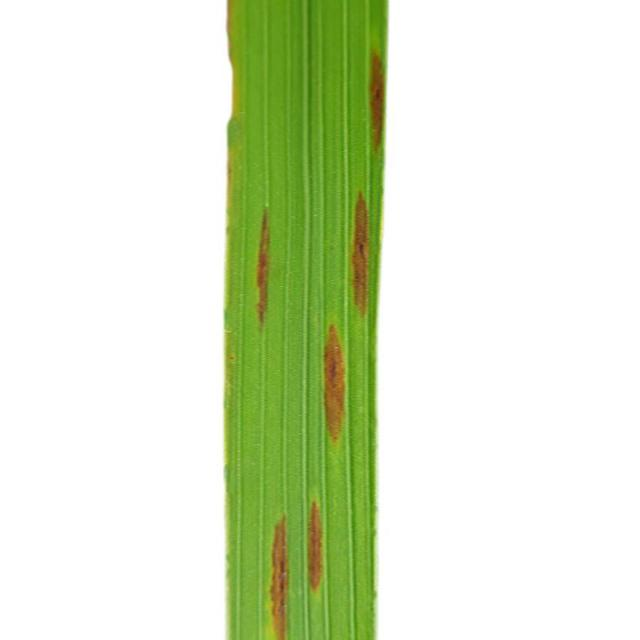Narrow brown: (196, 0, 400, 640)
